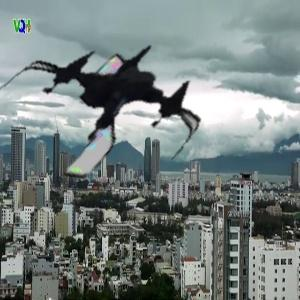drone: (6, 17, 197, 208)
